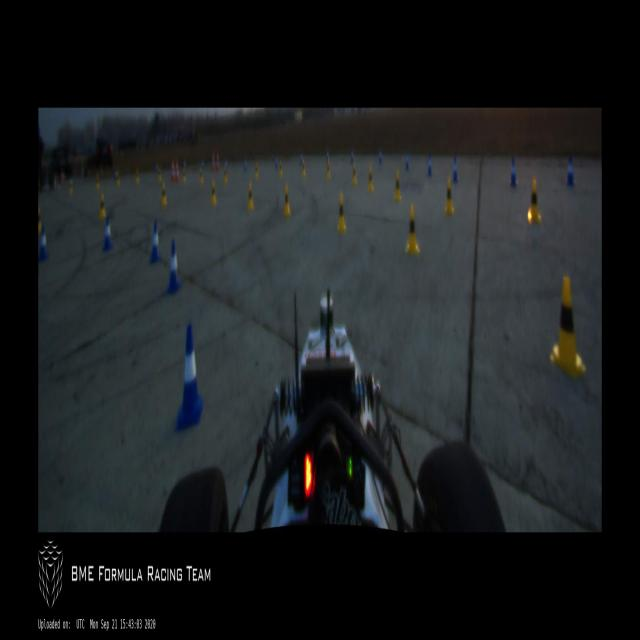blue_cone: (176, 325, 203, 431), (168, 241, 181, 293), (148, 220, 162, 265), (102, 214, 114, 252), (40, 226, 50, 260), (565, 154, 574, 188), (510, 158, 517, 187), (453, 157, 458, 182), (428, 155, 433, 177), (405, 152, 410, 171), (378, 149, 382, 165), (350, 150, 354, 164), (326, 150, 329, 164)
large_orange_cone: (175, 160, 180, 182), (171, 158, 175, 182)
yellow_cone: (550, 278, 586, 380), (406, 206, 419, 252), (528, 179, 541, 224), (445, 178, 454, 214), (338, 192, 346, 232), (394, 170, 402, 202), (283, 186, 290, 217), (99, 192, 106, 220), (210, 182, 217, 206), (248, 183, 254, 210), (161, 183, 167, 208), (368, 168, 374, 192), (38, 206, 42, 234), (352, 164, 357, 185), (326, 161, 331, 181), (301, 158, 306, 177), (199, 168, 204, 186), (254, 164, 258, 180), (279, 161, 283, 177), (182, 168, 186, 183), (224, 167, 227, 183)
